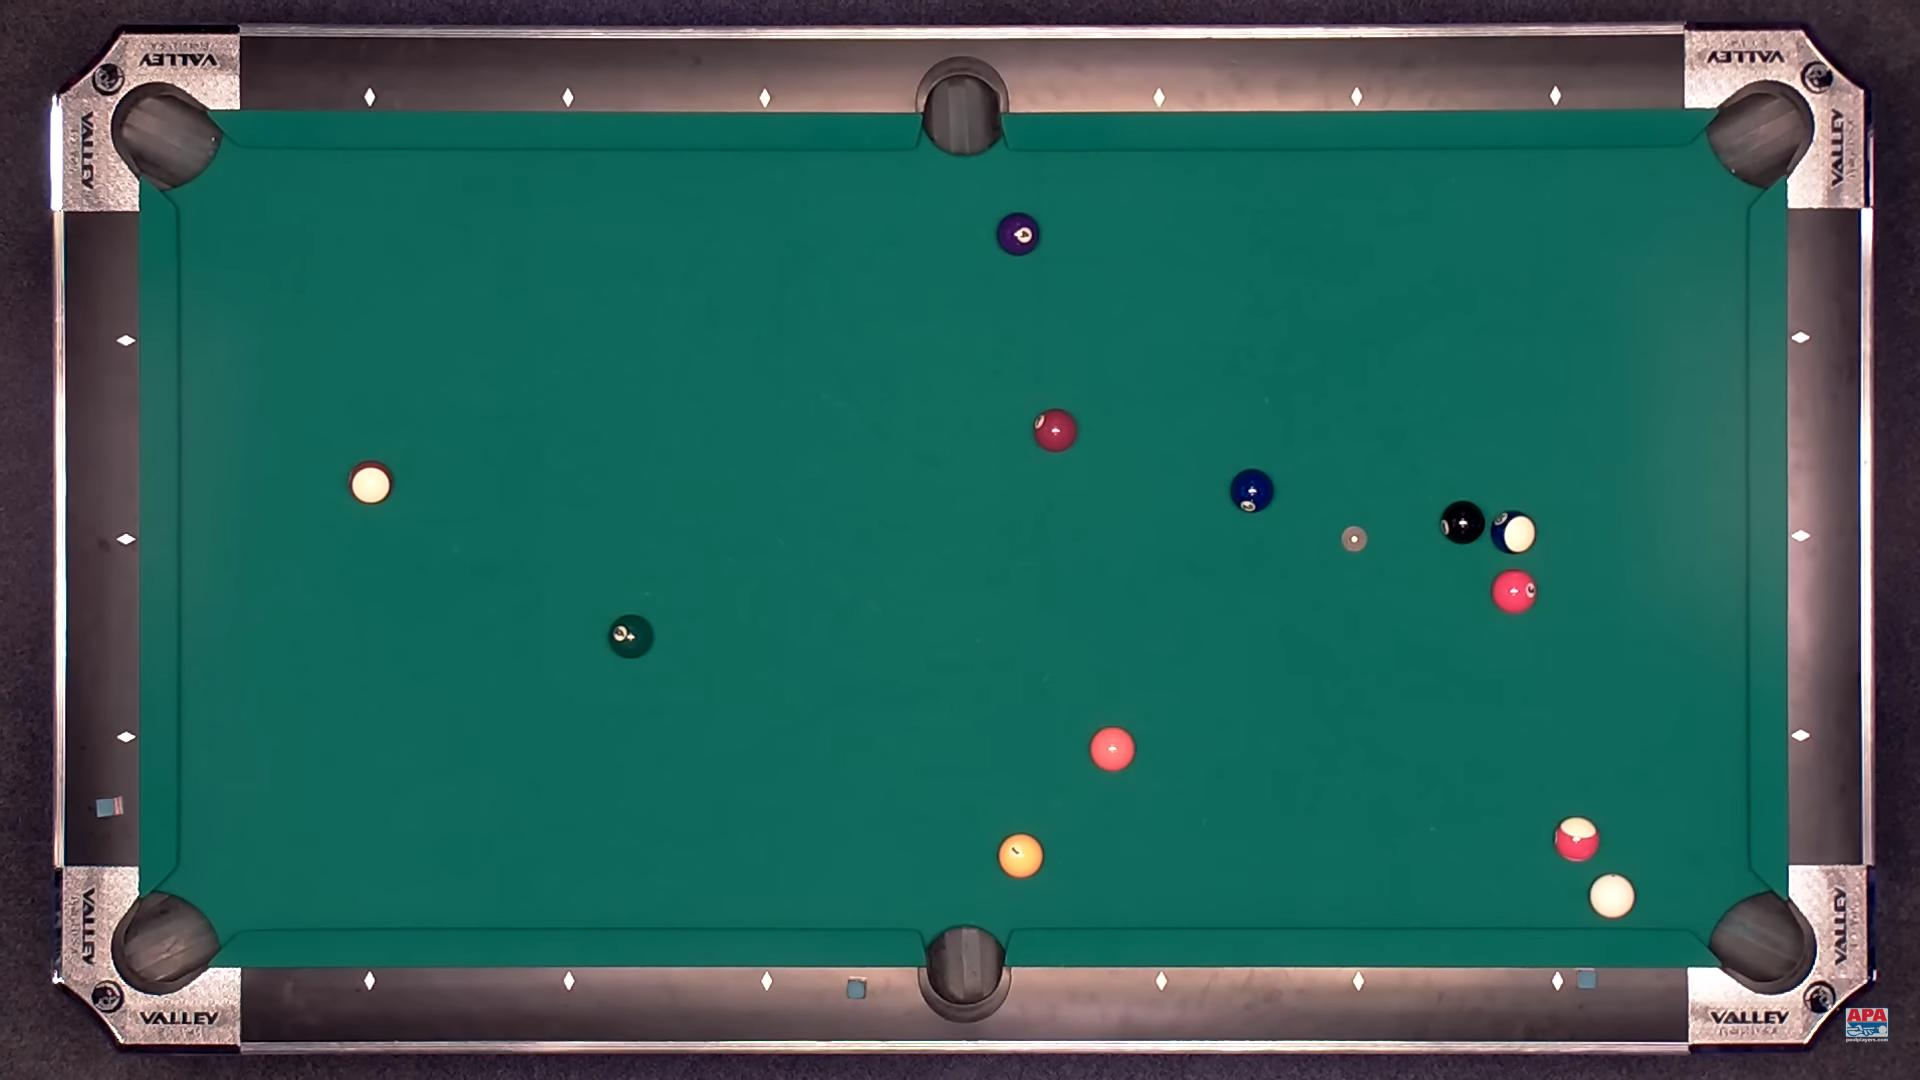Black: (1440, 501, 1485, 545)
Cue: (1589, 873, 1635, 919)
Dot: (1548, 88, 1563, 103), (1793, 331, 1808, 345), (1793, 530, 1808, 545), (1549, 975, 1564, 989), (1154, 975, 1168, 989), (760, 973, 774, 988), (562, 975, 576, 989), (363, 91, 376, 105), (758, 91, 773, 104), (1793, 729, 1808, 742), (1352, 975, 1365, 989), (363, 973, 377, 986), (119, 729, 132, 744), (119, 531, 132, 546), (119, 334, 133, 347), (560, 91, 574, 104), (1153, 92, 1166, 105), (1350, 90, 1364, 103)
Solid: (998, 833, 1043, 880), (1490, 568, 1536, 612), (1230, 468, 1274, 513), (1033, 407, 1077, 451), (1089, 727, 1134, 770), (608, 615, 653, 658), (997, 214, 1039, 256)
Striped: (1555, 816, 1601, 862), (348, 460, 393, 505), (1491, 510, 1536, 554)
